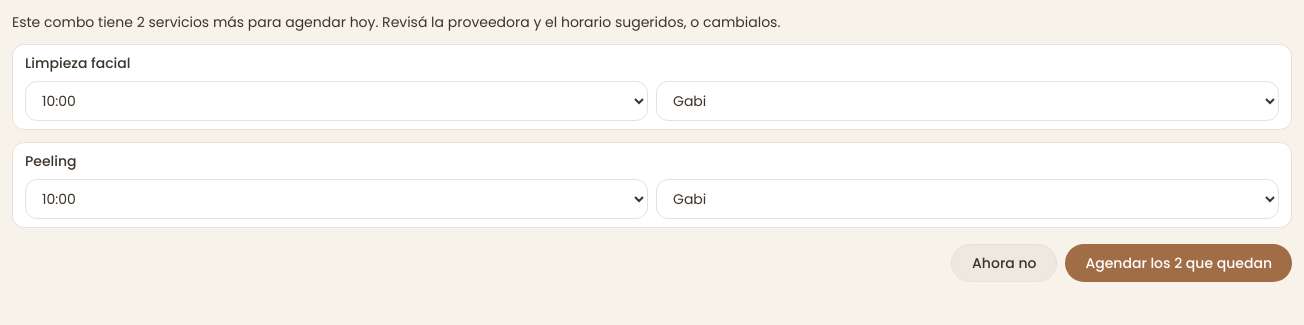
Test: ComboPendientesPanel › si una fila choca al confirmar, la otra queda agendada y el panel no cierra solo
Click the button "Agendar los 2 que quedan".
click(1179, 263)  # box left=1065, top=244, right=1292, bottom=282
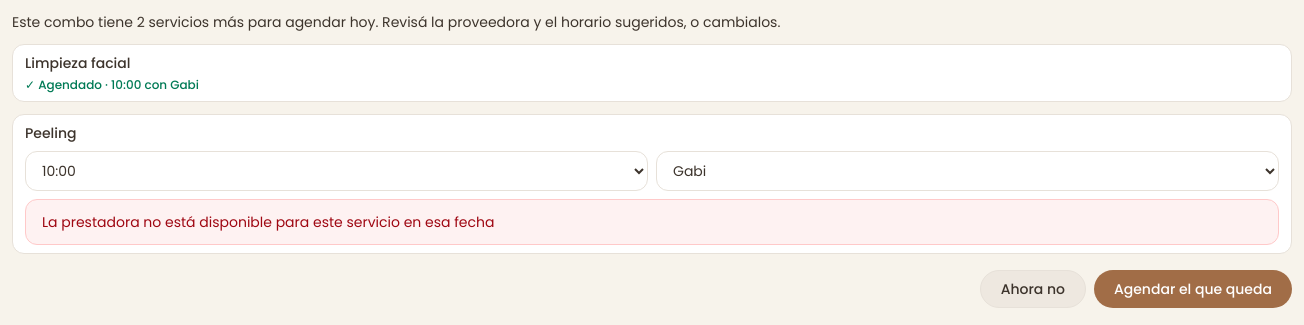
Result: the text "✓ Agendado · 10:00 con Gabi" is shown at left=25, top=76, right=199, bottom=93
Result: the text "La prestadora no está disponible" is shown at left=42, top=212, right=494, bottom=232
